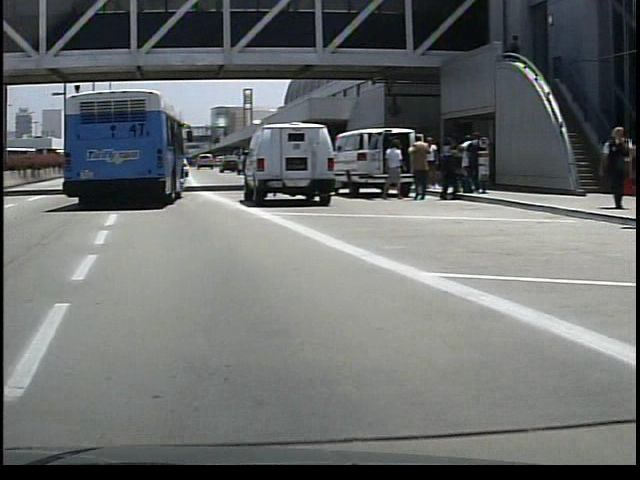person: (401, 131, 427, 201), (377, 133, 401, 199)
